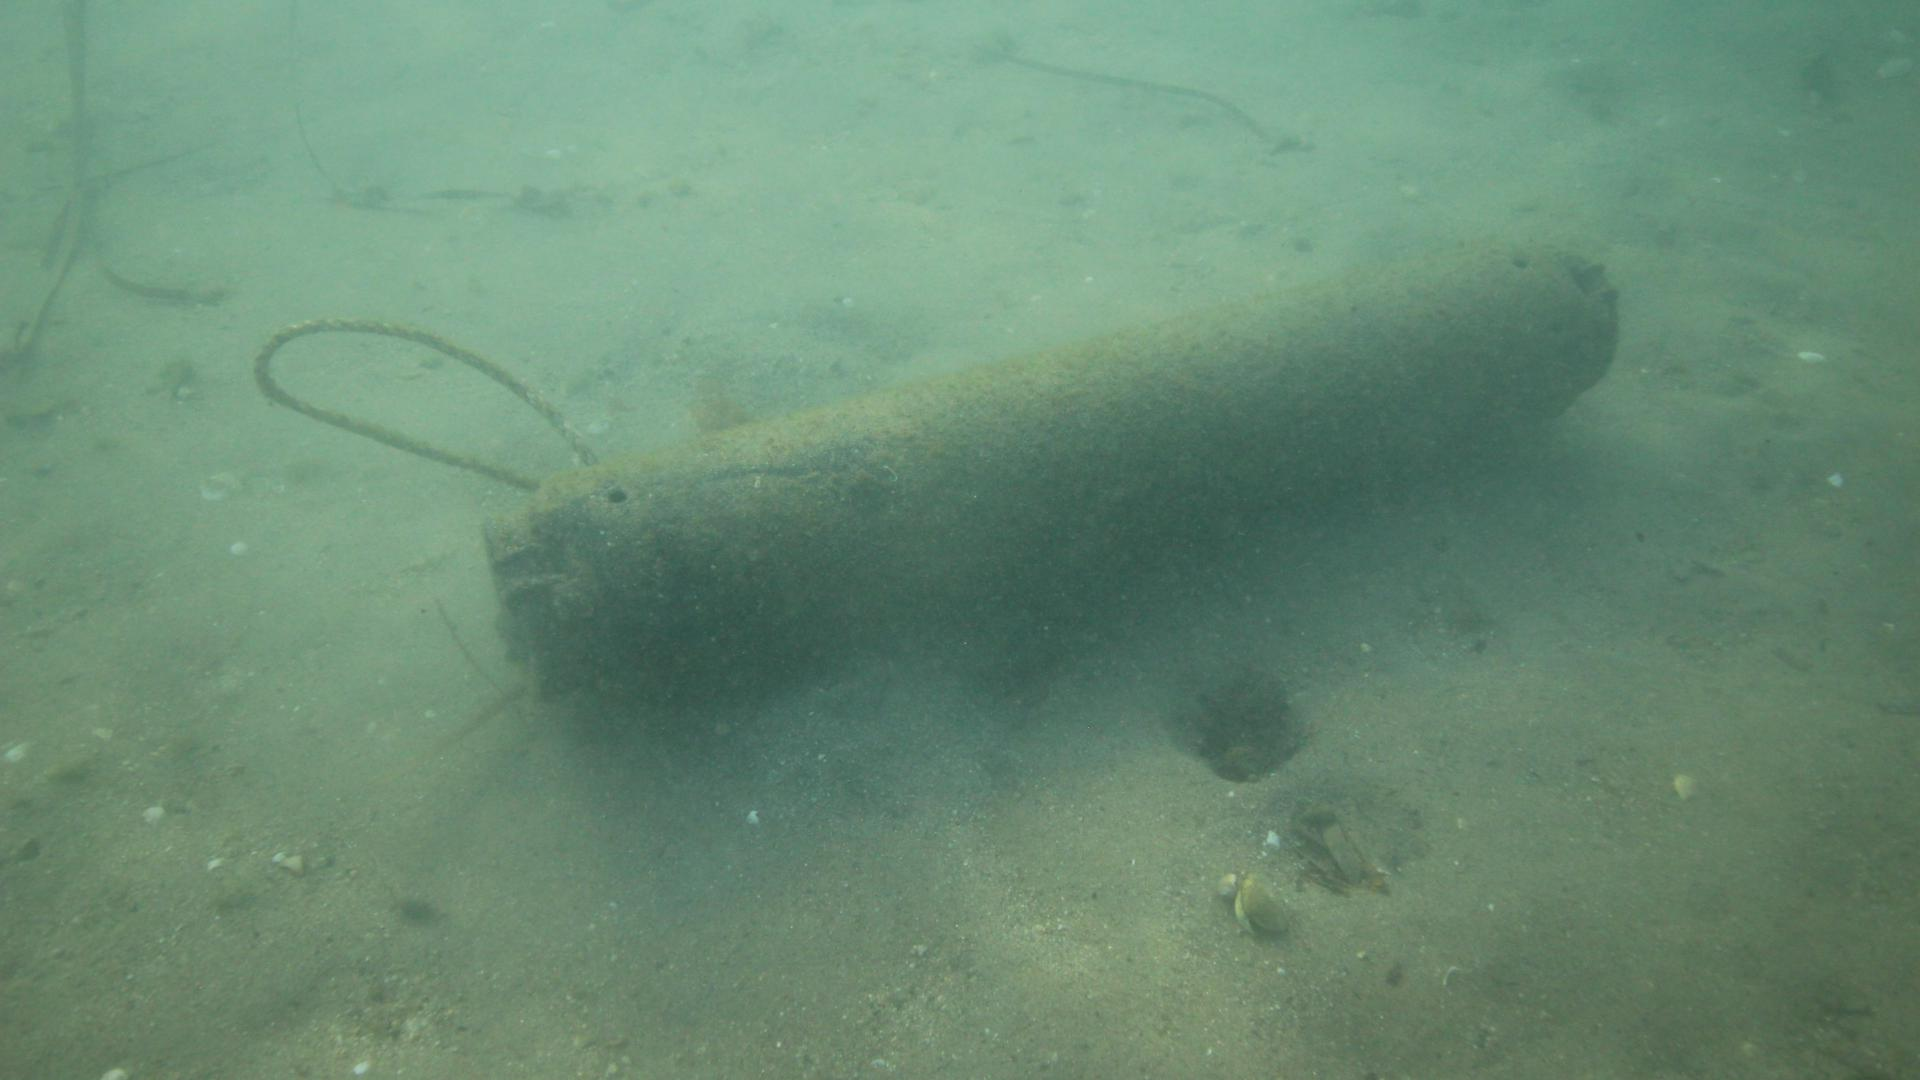eel fish trap: (483, 239, 1617, 711)
rope: (251, 315, 603, 491)
